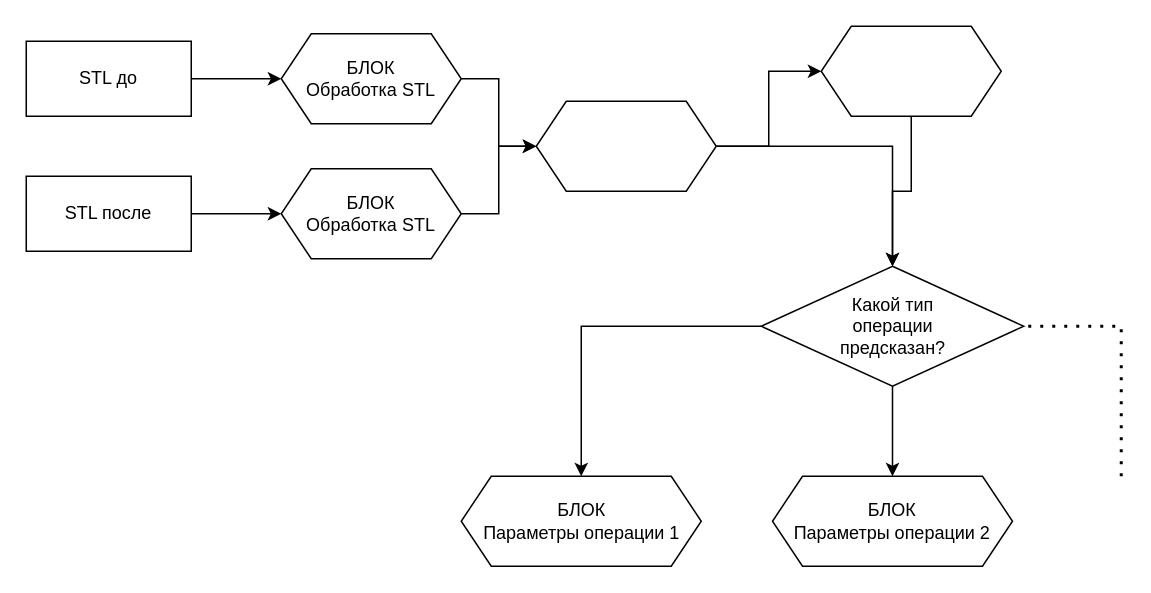
Image size: 1151x593. Some labels were removed from this diagram. The centre of each missing label's shape, as x and y in pixels:
"БЛОК Классификация" belongs at (x=910, y=70).
"БЛОК Сравнение STL" belongs at (x=625, y=145).
